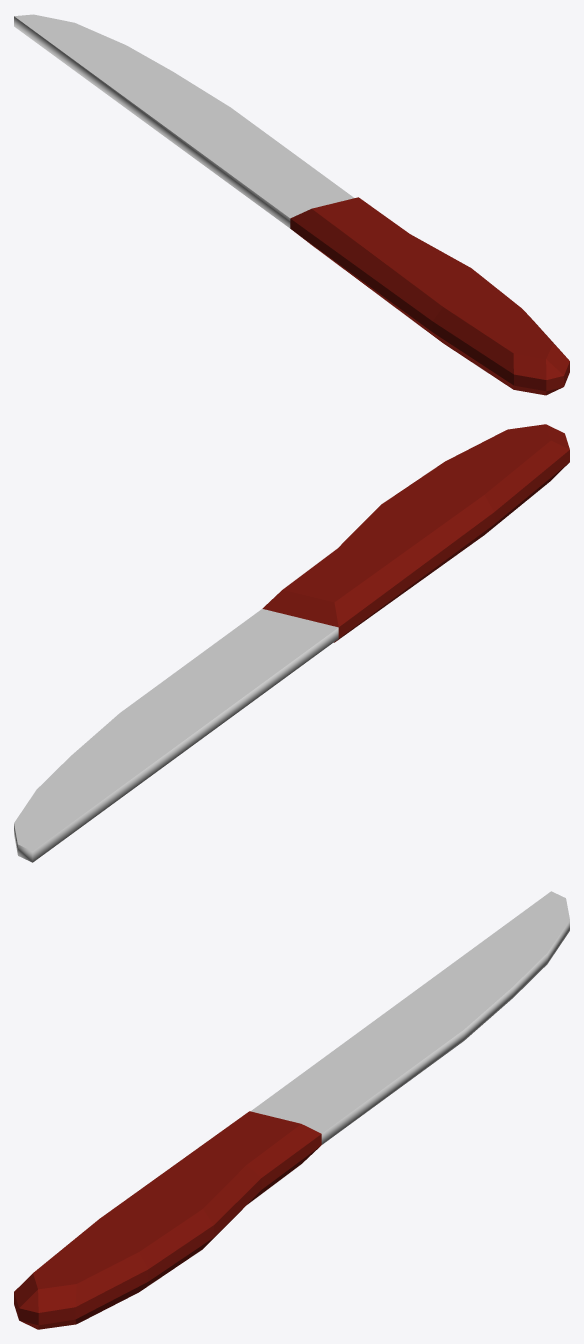
Rendered from knife_2.glb.
The picture shows the model from 3 angles, top to bottom: view 1: azimuth 30°, elevation 25°; view 2: azimuth 150°, elevation 25°; view 3: azimuth 330°, elevation 25°; orthographic projection. The views are drawn at different scales.
Parts seen in each view (by area): view 1: Knife (Simple); view 2: Knife (Simple); view 3: Knife (Simple).
Part boxes in pixels (box(x1,y1,x2,y2)): Knife (Simple): box(14, 14, 569, 395); Knife (Simple): box(14, 424, 569, 862); Knife (Simple): box(14, 891, 569, 1329).
Bounding box in the file's own units: 0.0212 × 0.00911 × 0.2294.
1 material, 1 textured.
